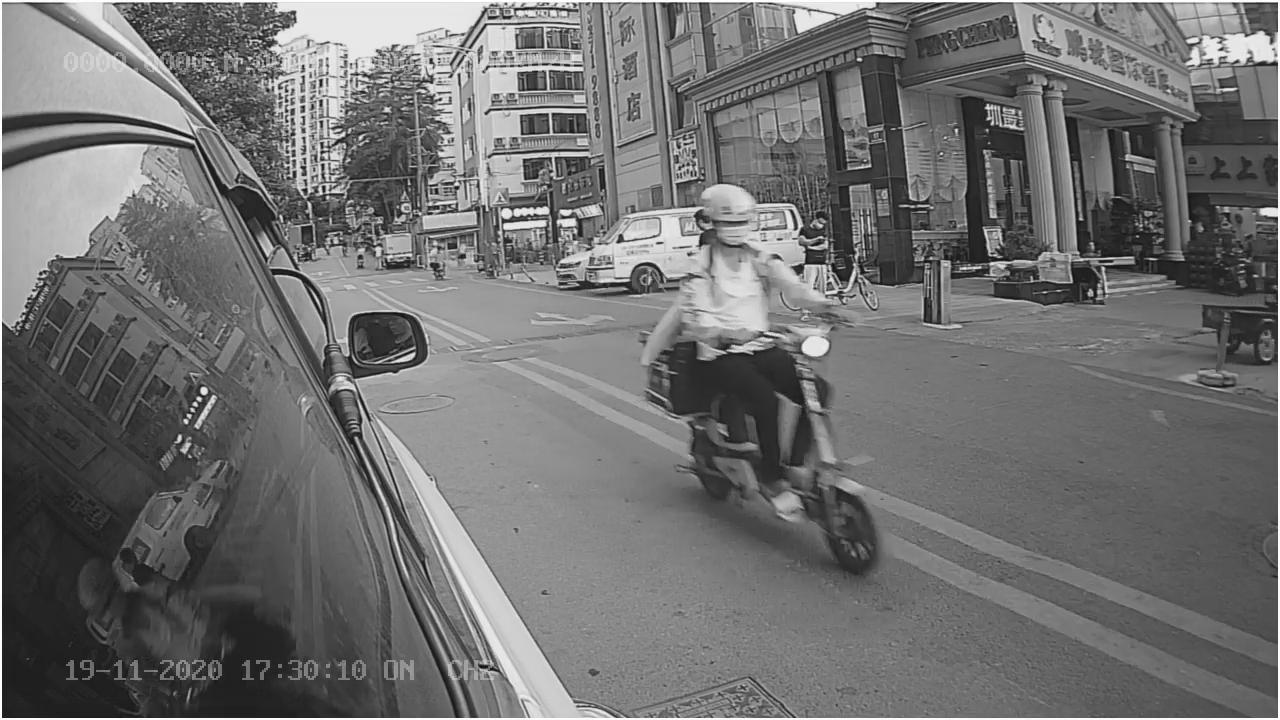person: (670, 180, 830, 329)
